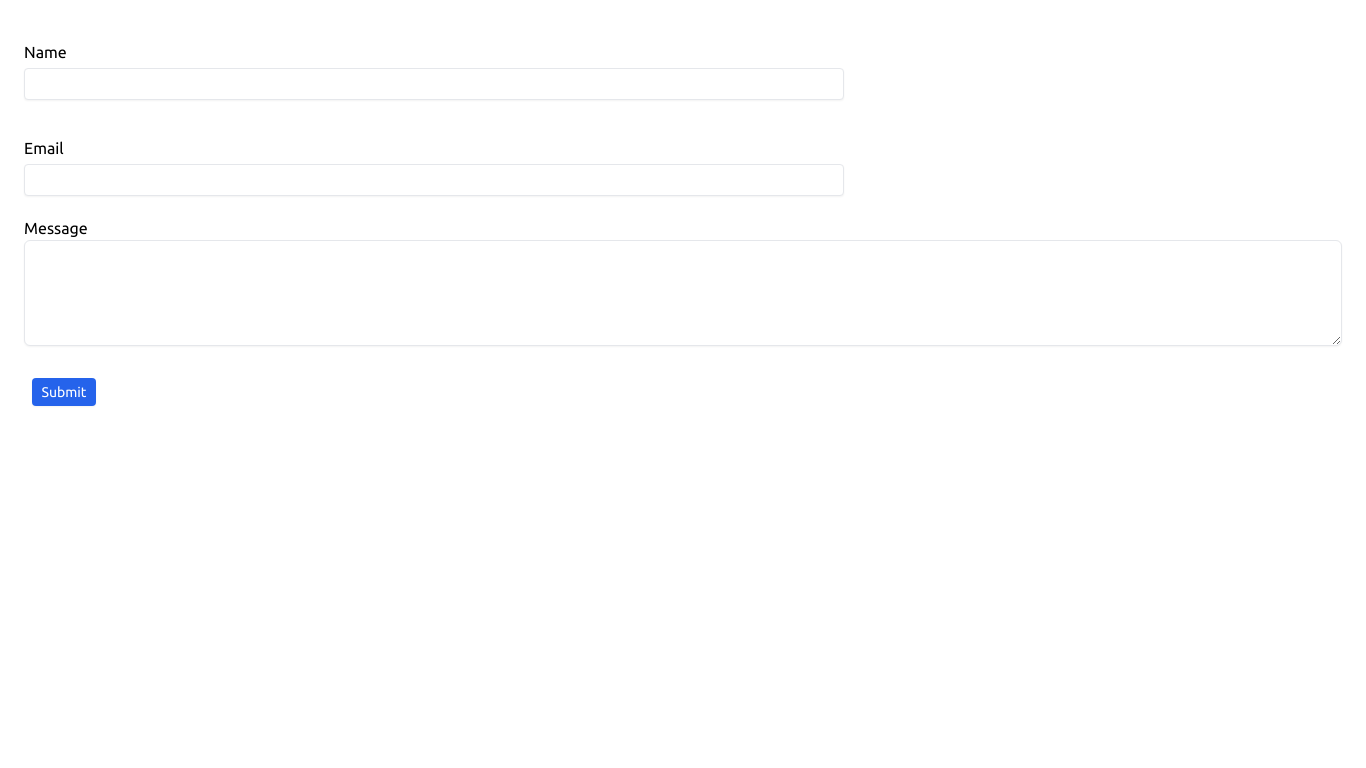
Test: <ContactForm /> › err messages for name and email render on submit btn click
Click the button "Submit" at [64, 392], box top-left (32, 378), bottom-right (96, 406)
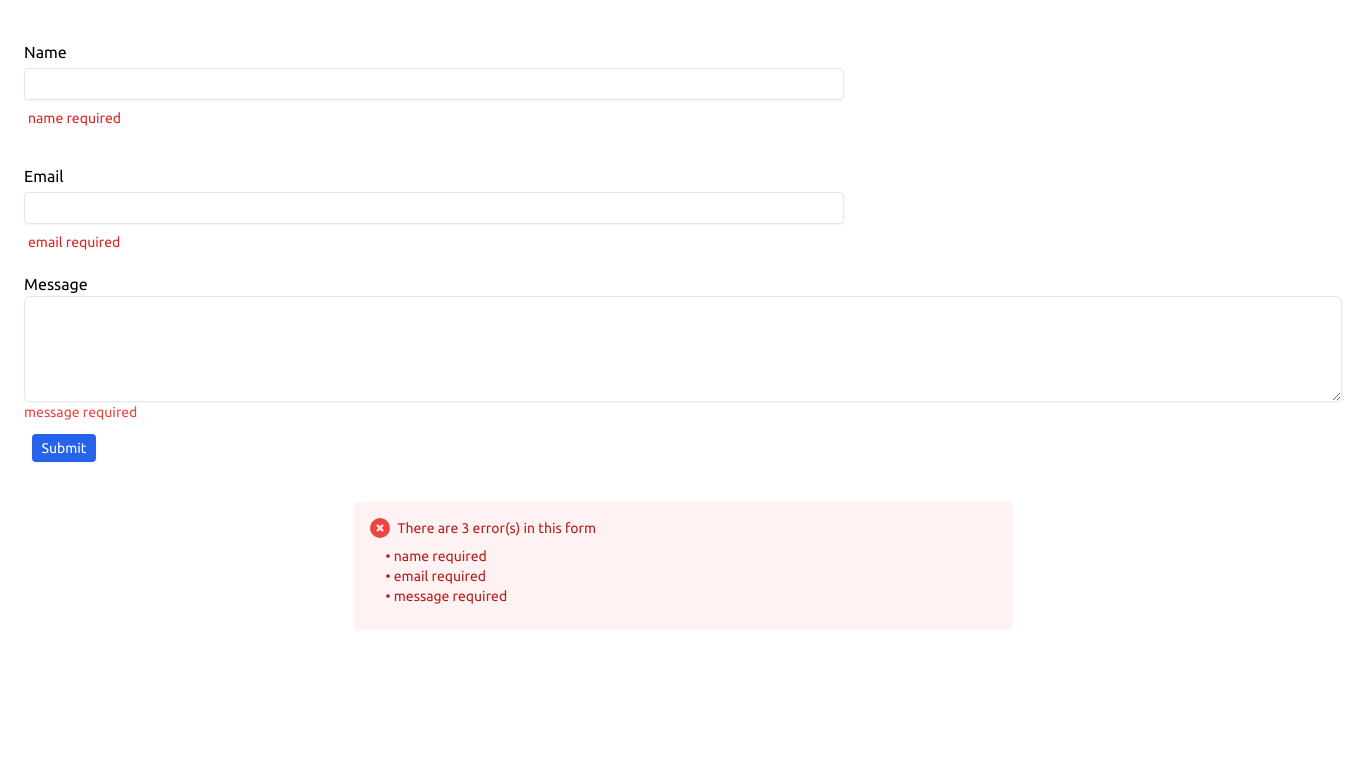
Expected: the text "name required" is shown, top-left (28, 110), bottom-right (121, 126)
Expected: the text "email required" is shown, top-left (28, 234), bottom-right (120, 250)
